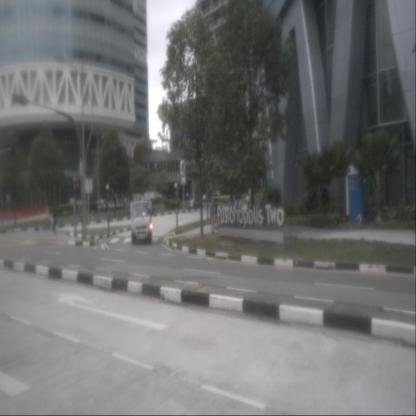human-pedestrian-adult: (212, 198, 220, 235), (209, 197, 215, 234), (237, 195, 243, 224), (50, 210, 56, 238), (233, 196, 238, 223), (202, 192, 206, 208)
vehicle-car: (130, 200, 152, 245)
